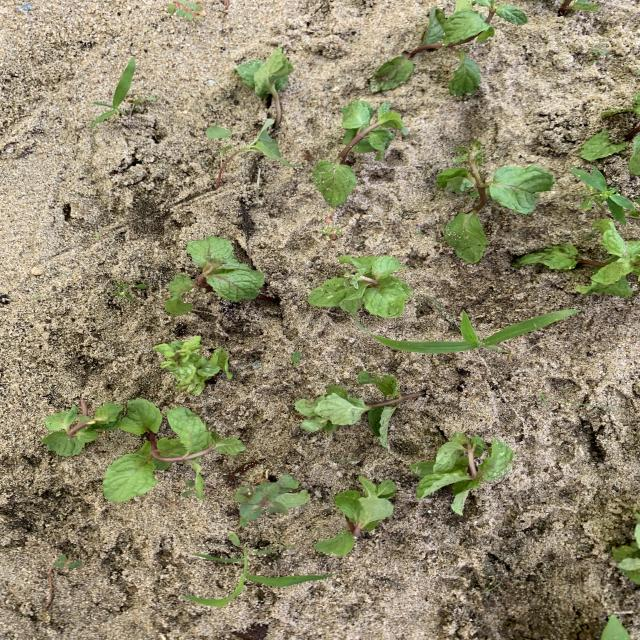crop: (103, 398, 244, 502), (438, 142, 553, 263), (371, 2, 494, 91), (314, 101, 406, 208), (516, 219, 639, 295), (296, 371, 419, 446), (411, 433, 514, 513), (166, 236, 263, 315), (309, 256, 411, 317), (316, 477, 395, 555), (43, 400, 125, 455), (154, 337, 231, 394), (235, 475, 309, 527), (237, 47, 293, 106), (579, 126, 639, 174), (612, 506, 639, 583)
weed: (362, 309, 578, 351), (183, 547, 328, 607), (206, 119, 295, 189), (572, 168, 633, 221), (91, 58, 134, 127), (475, 0, 527, 24), (166, 0, 203, 19), (113, 282, 134, 301), (53, 554, 83, 567), (320, 225, 342, 241), (562, 1, 599, 10), (590, 47, 605, 61), (333, 458, 360, 464), (292, 352, 300, 364), (539, 392, 546, 403), (135, 283, 147, 288), (587, 233, 595, 239), (94, 233, 100, 237)
